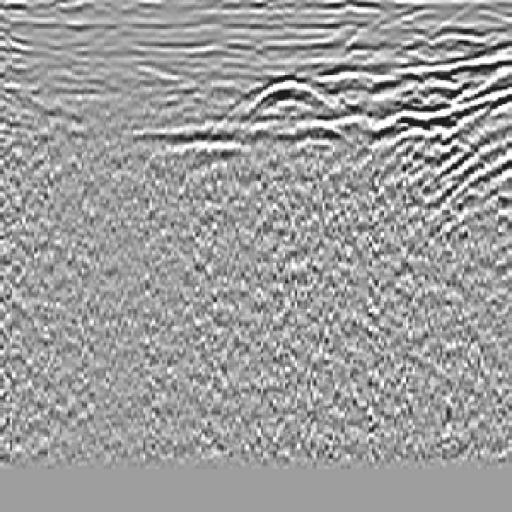metalic: (216, 74, 352, 125)
non-metallic: (375, 32, 512, 221)
